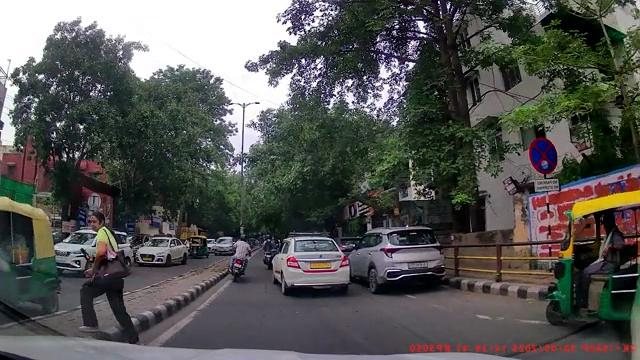motorcycle_with_helmet: (229, 233, 251, 282)
